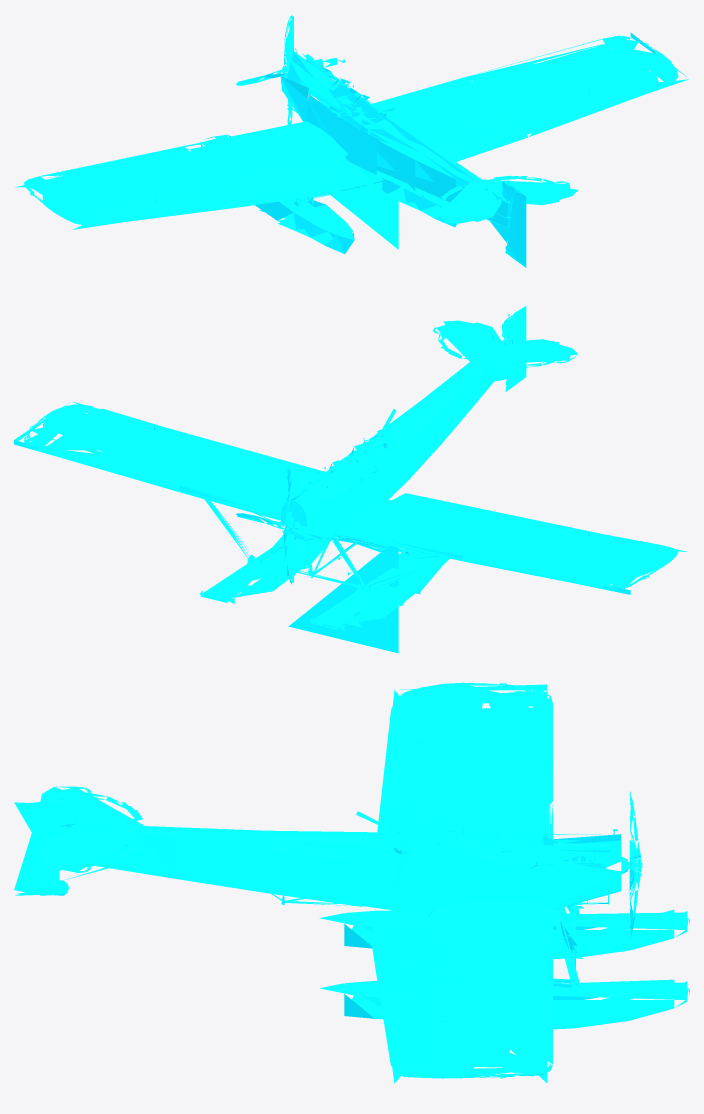
The model's file is PGAS002.glb.
3 views of the same model, one above another, from view 1: azimuth 30°, elevation 25°; view 2: azimuth 150°, elevation 25°; view 3: azimuth 270°, elevation 25° (orthographic). The views are drawn at different scales.
Visible parts, largest first — view 1: misc; view 2: misc; view 3: misc.
Boxes of the visible parts, x1=… form: misc: x1=15, y1=14, x2=688, y2=267; misc: x1=14, y1=306, x2=687, y2=653; misc: x1=14, y1=682, x2=689, y2=1083.
Bounding box in the file's own units: 1.17 × 0.3815 × 0.851.
